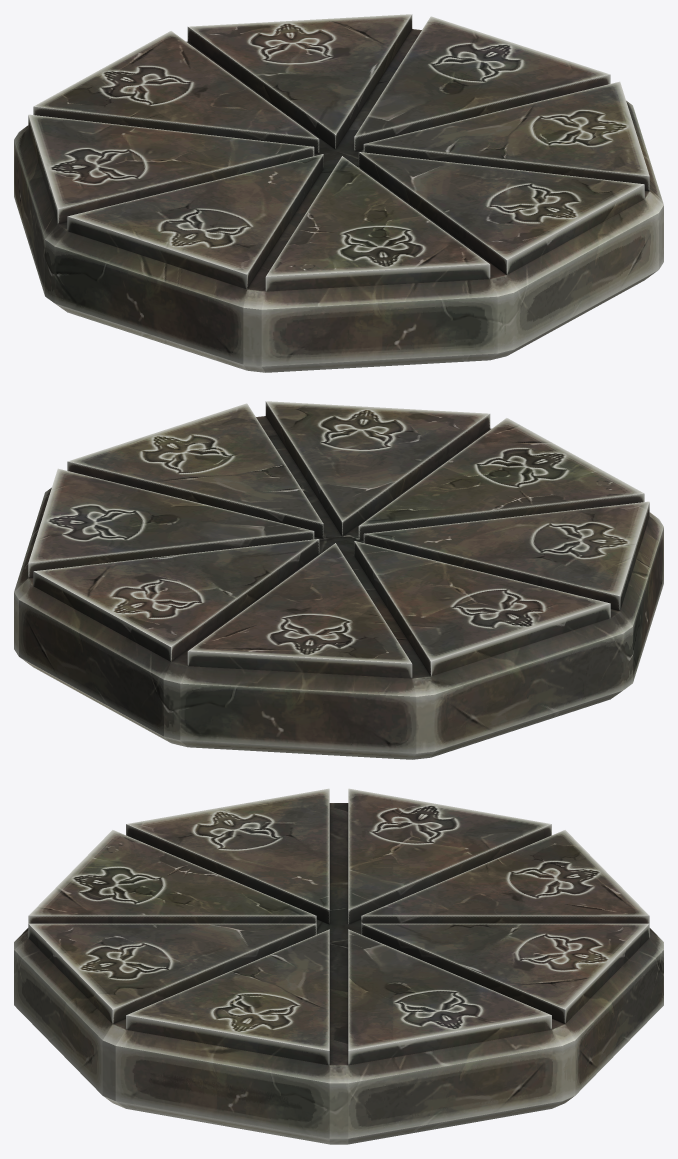
File: Eith2F.fbx
The picture shows the model from 3 angles, top to bottom: view 1: azimuth 30°, elevation 25°; view 2: azimuth 150°, elevation 25°; view 3: azimuth 270°, elevation 25°; orthographic projection. The views are drawn at different scales.
Parts seen in each view (by area): view 1: eith2_LOD0; view 2: eith2_LOD0; view 3: eith2_LOD0.
Part boxes in pixels (box(x1,y1,x2,y2)): eith2_LOD0: box(14, 14, 663, 372); eith2_LOD0: box(14, 401, 663, 759); eith2_LOD0: box(14, 788, 663, 1144).
Size of what is drawn, in the model's own units: 556 by 88.26 by 556.
